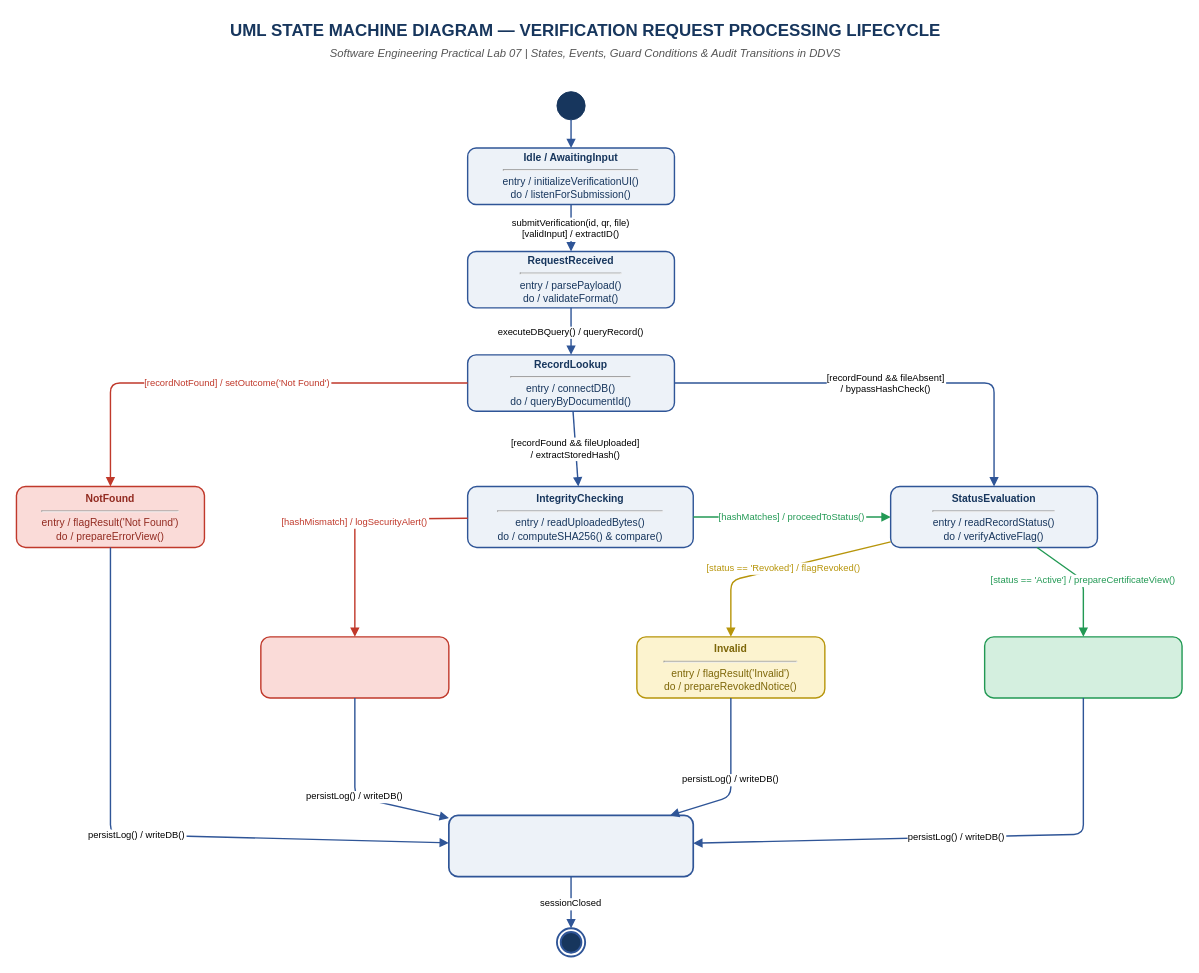
The diagram is 1199 pixels wide and 973 high, and some of its shapes have lost their labels. The shapes that lost their labels are listed below. From the top down, each one's centre as x and y in pixels, then its label:
the point at 354,667: Tampered entry / flagResult('Tampered') do / prepareWarningNotice()
the point at 1083,667: Verified entry / flagResult('Verified') do / prepareSuccessMetadata()
the point at 571,845: Logged & Terminated entry / commitAuditLog(D3) do / renderFinalResponse()
